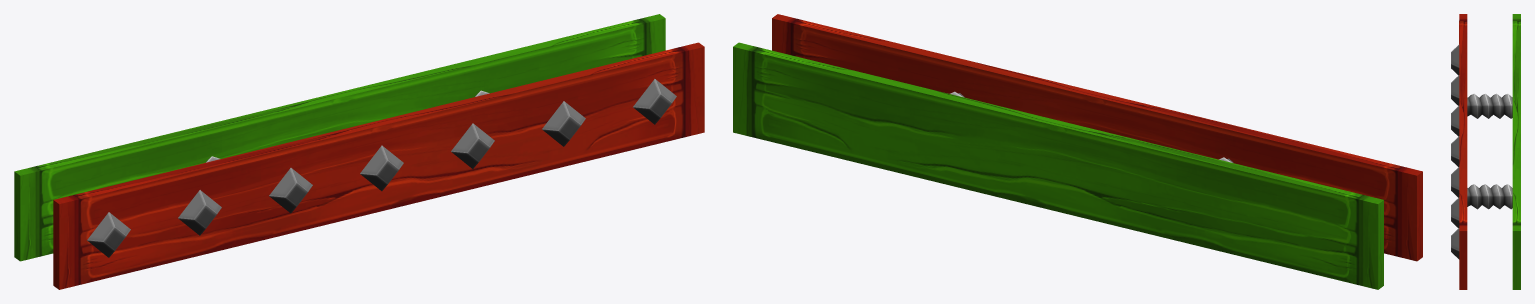
The model's file is fence_burger_04.fbx.
3 renders of one model, left to right at view 1: azimuth 30°, elevation 25°; view 2: azimuth 150°, elevation 25°; view 3: azimuth 270°, elevation 25°, orthographic. The views are drawn at different scales.
Parts seen in each view (by area): view 1: fence_burger_04; view 2: fence_burger_04; view 3: fence_burger_04.
Boxes of the visible parts, box(x1,y1,x2,y2) form: fence_burger_04: box(14, 14, 704, 289); fence_burger_04: box(733, 14, 1422, 289); fence_burger_04: box(1451, 14, 1520, 289).
Bounding box in the file's own units: 315 × 40 × 42.85.
